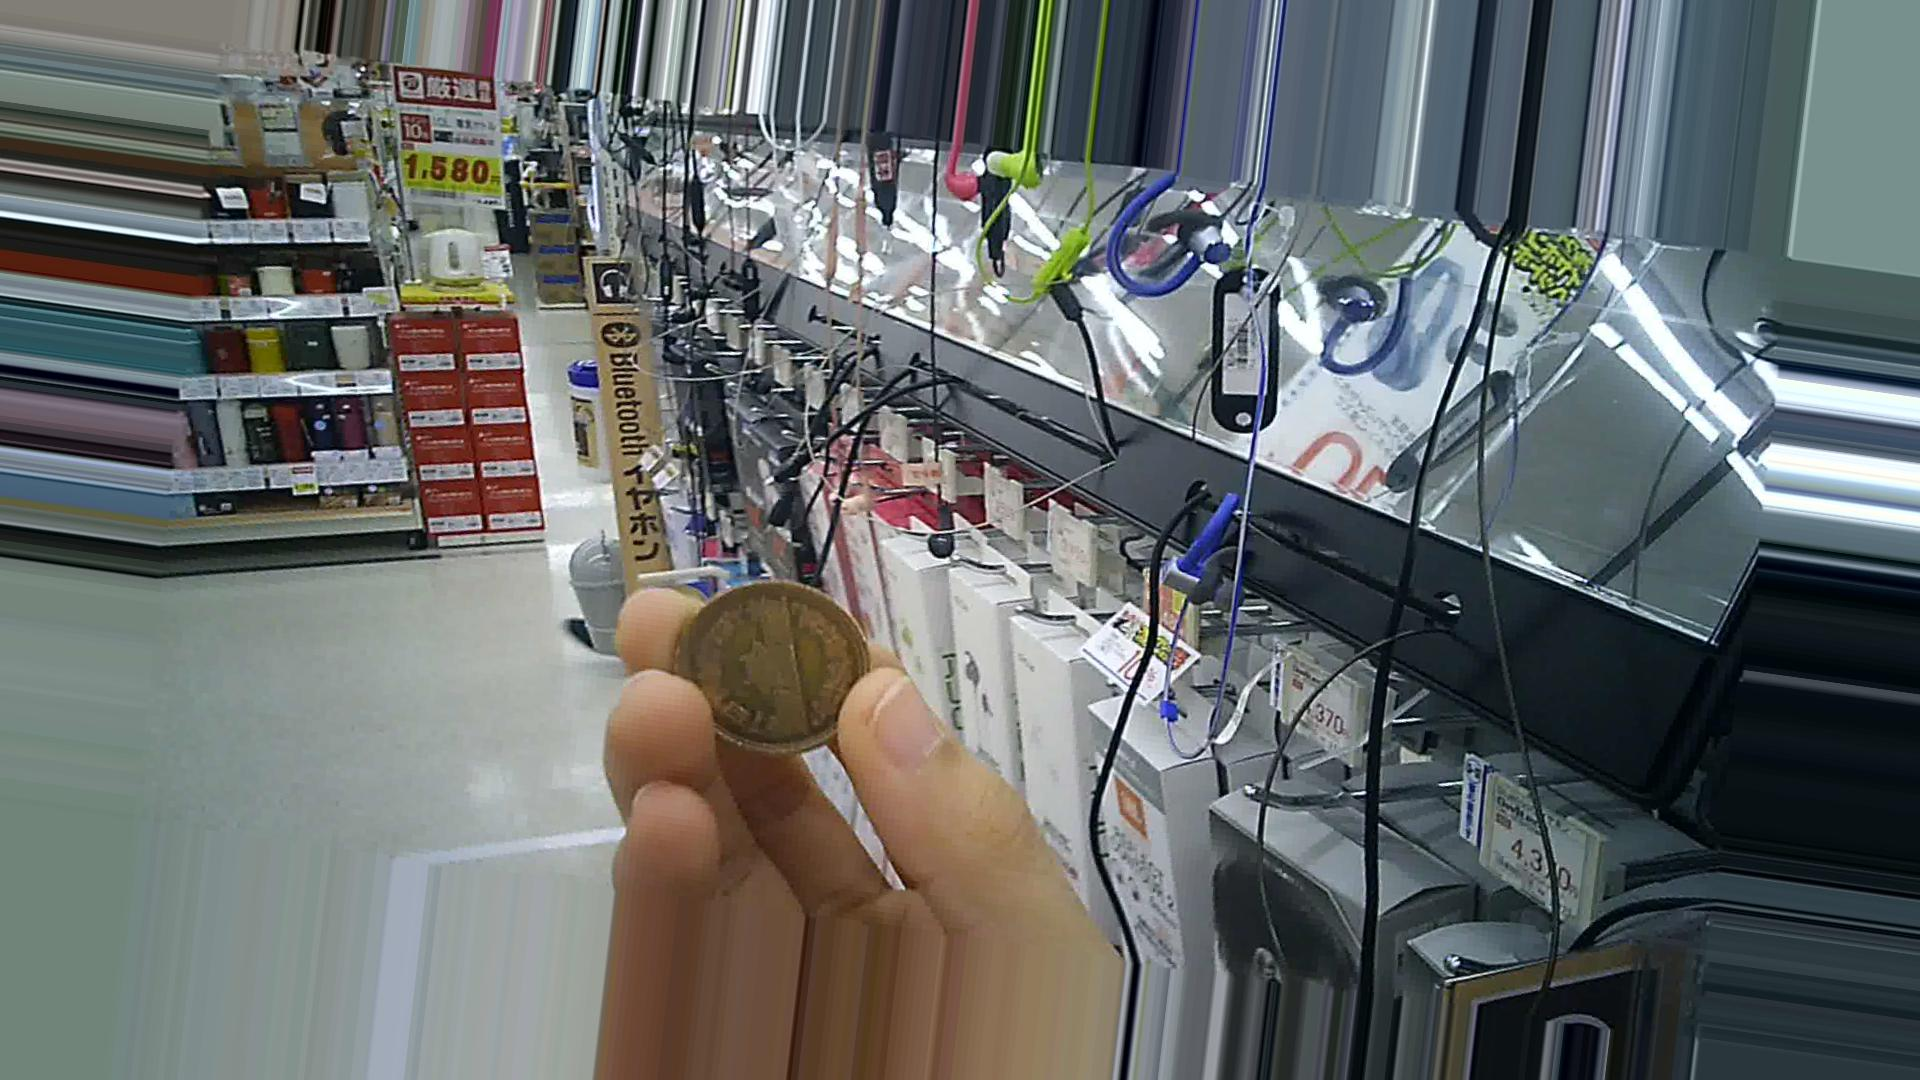10 Yen: (669, 574, 891, 775)
